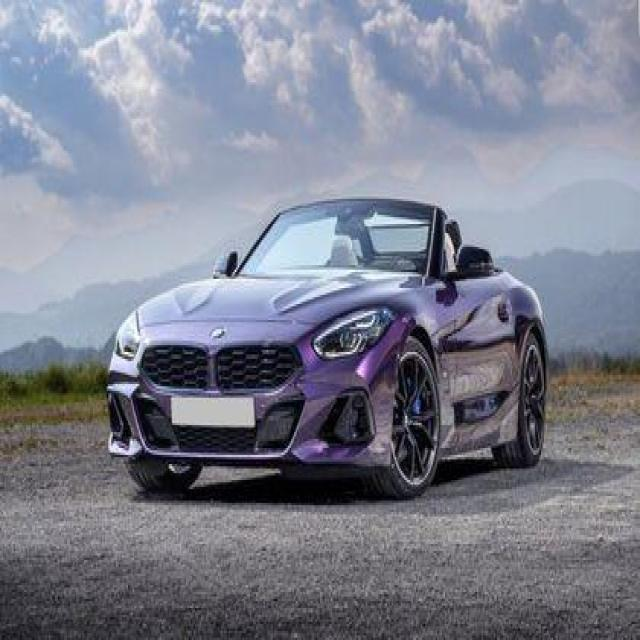cars9: (103, 192, 550, 498)
